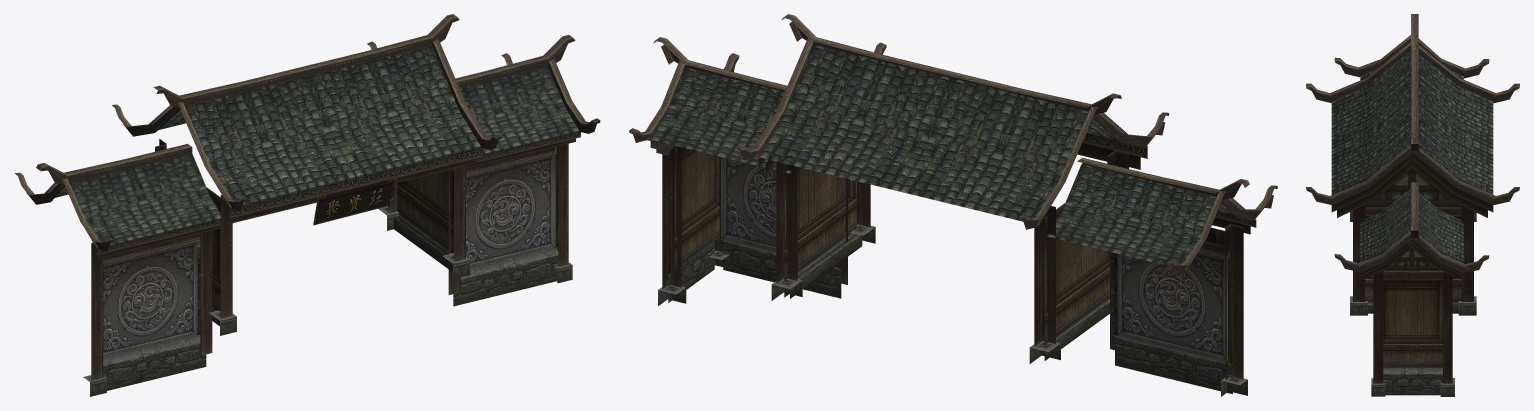
File: yw_juxianzhuang_damen.FBX
The picture shows the model from 3 angles, left to right: view 1: azimuth 30°, elevation 25°; view 2: azimuth 150°, elevation 25°; view 3: azimuth 270°, elevation 25°; orthographic projection. The views are drawn at different scales.
Visible parts, largest first — view 1: yw_juxianzhuang_damen; view 2: yw_juxianzhuang_damen; view 3: yw_juxianzhuang_damen.
Boxes of the visible parts, x1,y1,x2,y2 form: yw_juxianzhuang_damen: [15, 14, 600, 396]; yw_juxianzhuang_damen: [629, 14, 1277, 396]; yw_juxianzhuang_damen: [1306, 14, 1519, 396].
Bounding box in the file's own units: 1395 × 665 × 586.
1 material, 1 textured.
